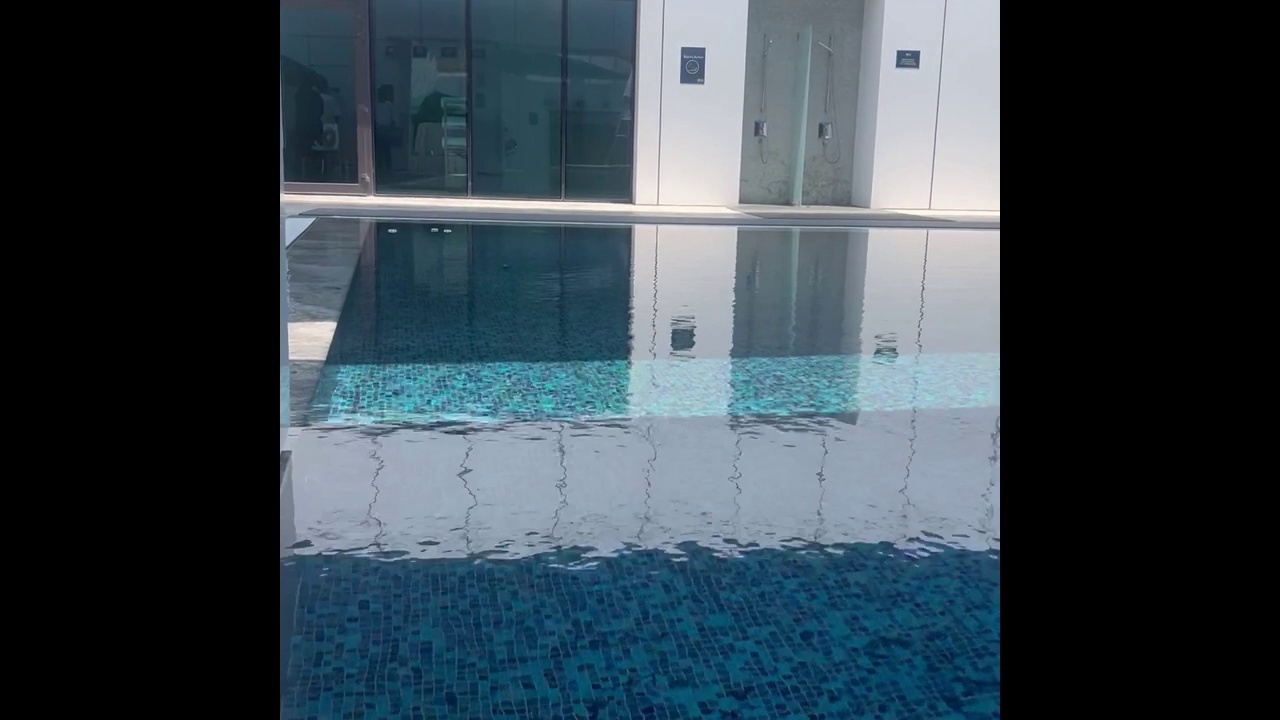debris: (383, 225, 399, 236), (426, 223, 440, 235), (438, 226, 454, 236), (497, 261, 508, 272)
